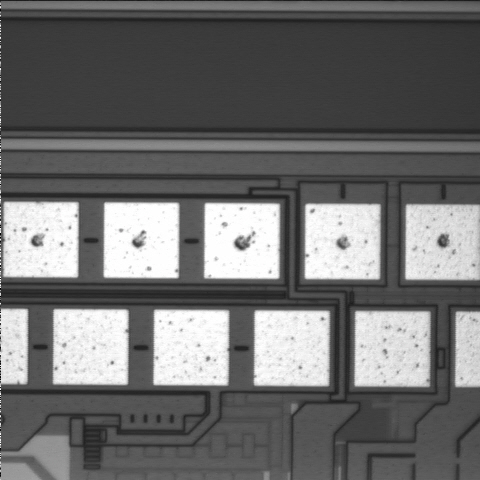pad: (3, 202, 79, 278), (204, 203, 280, 279), (254, 310, 330, 386), (104, 202, 179, 278), (53, 309, 128, 385), (153, 310, 229, 385), (305, 204, 380, 279), (355, 311, 430, 386)
